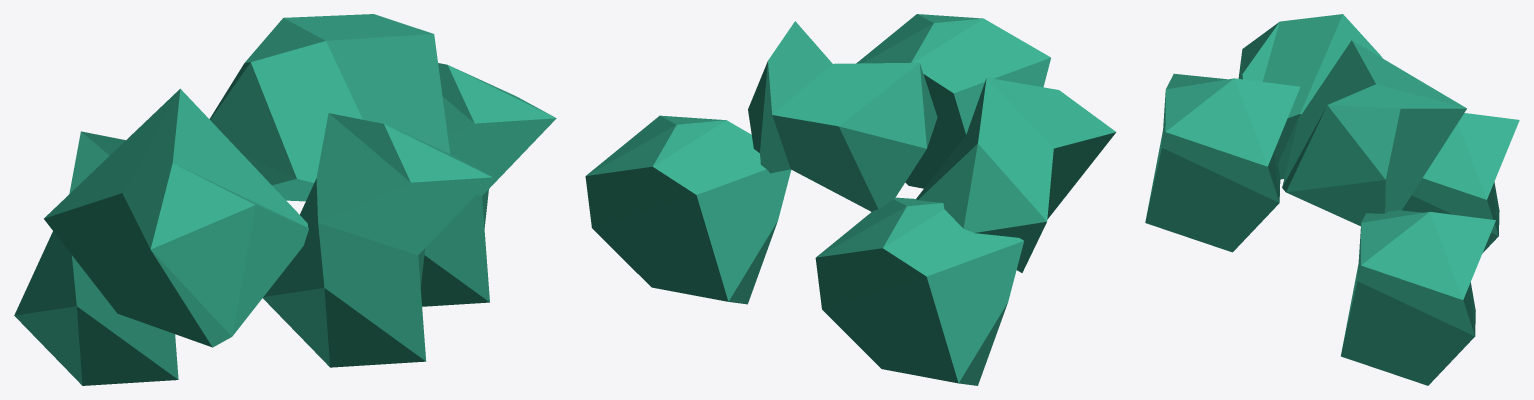
Rendered from cooper_ore.fbx.
The picture shows the model from 3 angles, left to right: view 1: azimuth 30°, elevation 25°; view 2: azimuth 150°, elevation 25°; view 3: azimuth 270°, elevation 25°; orthographic projection. The views are drawn at different scales.
Visible parts, largest first — view 1: Сфера.009, Сфера.007, Сфера.005, Сфера.008, Сфера.006; view 2: Сфера.006, Сфера.008, Сфера.005, Сфера.009, Сфера.007; view 3: Сфера.005, Сфера.007, Сфера.006, Сфера.009, Сфера.008.
Part boxes in pixels (x1,y1,x2,y2): Сфера.009: (44, 88, 308, 347); Сфера.007: (263, 113, 492, 367); Сфера.005: (209, 14, 449, 201); Сфера.008: (14, 131, 178, 385); Сфера.006: (420, 63, 556, 306); Сфера.006: (585, 115, 791, 304); Сфера.008: (815, 197, 1023, 385); Сфера.005: (748, 21, 937, 211); Сфера.009: (916, 77, 1116, 272); Сфера.007: (856, 14, 1050, 188); Сфера.005: (1282, 40, 1466, 226); Сфера.007: (1145, 73, 1300, 252); Сфера.006: (1341, 210, 1495, 385); Сфера.009: (1238, 14, 1382, 179); Сфера.008: (1402, 113, 1519, 253).
Size of the model in its own units: 51.98 by 31.63 by 41.65.
